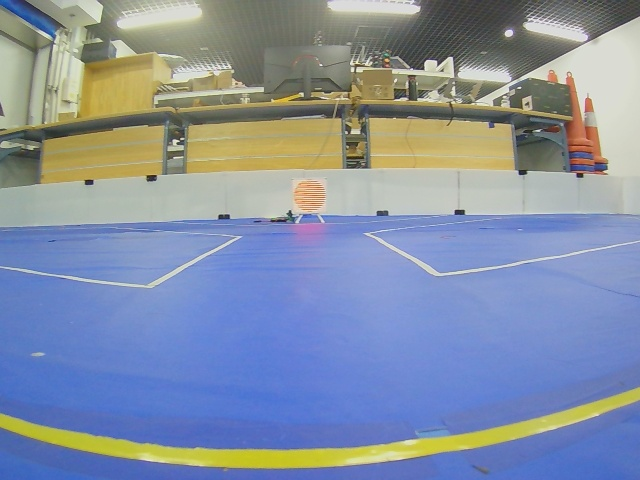red: (291, 178, 328, 215)
